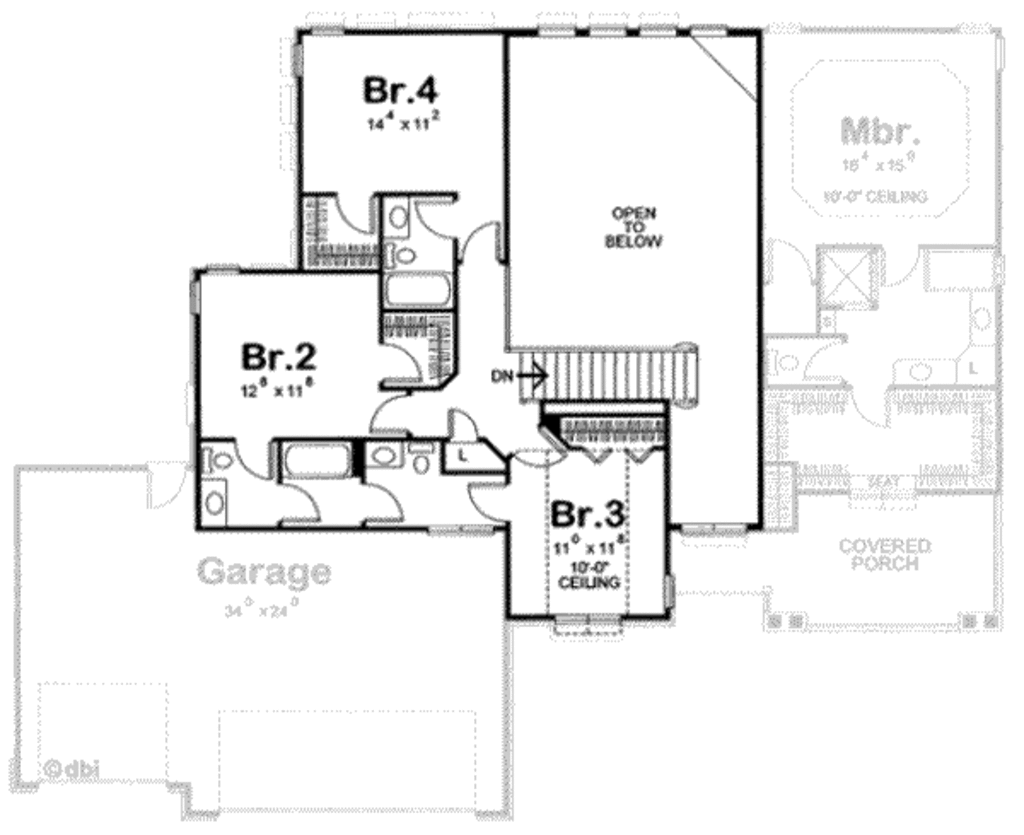door: (505, 419, 571, 478), (349, 478, 411, 529), (360, 391, 423, 441), (376, 334, 436, 386), (458, 473, 515, 524), (272, 480, 327, 530), (457, 221, 503, 275), (229, 436, 279, 482), (334, 182, 375, 237), (437, 403, 493, 443), (412, 197, 463, 238)
large_sink: (198, 442, 246, 480), (375, 242, 420, 271), (407, 437, 432, 480)
small_sink: (379, 194, 418, 243), (203, 480, 233, 530), (362, 438, 403, 469)
stairs: (498, 342, 710, 415)
tub: (280, 438, 363, 481), (384, 268, 455, 312)
window: (532, 12, 732, 43), (544, 607, 632, 634), (184, 264, 208, 316), (308, 19, 347, 42), (659, 572, 677, 615)
